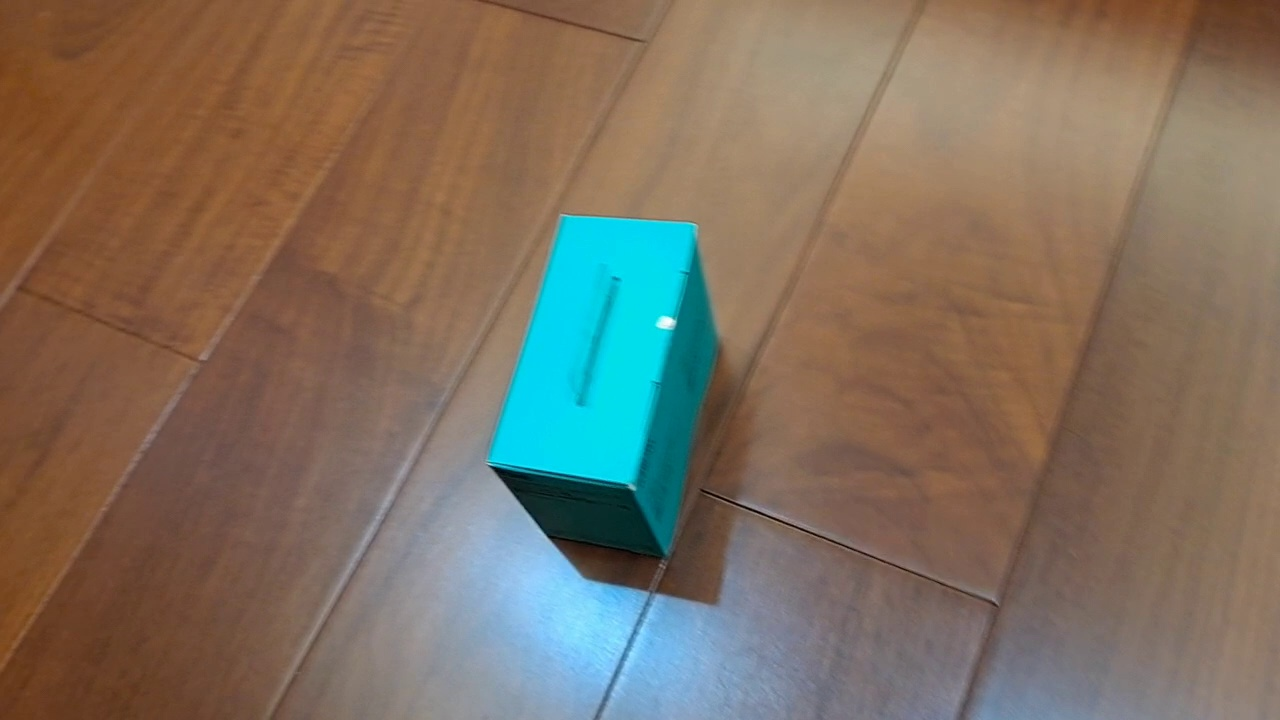webcam: (482, 211, 723, 563)
